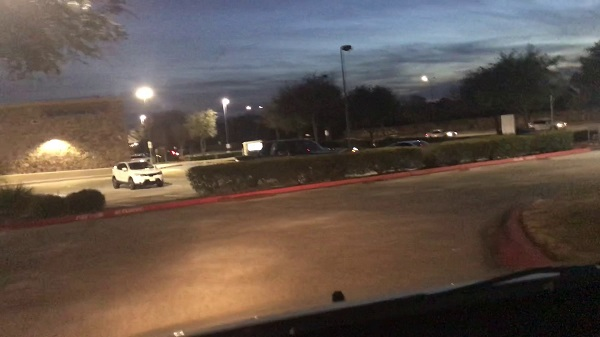car: (111, 161, 166, 187), (529, 116, 568, 128), (421, 128, 457, 137)
